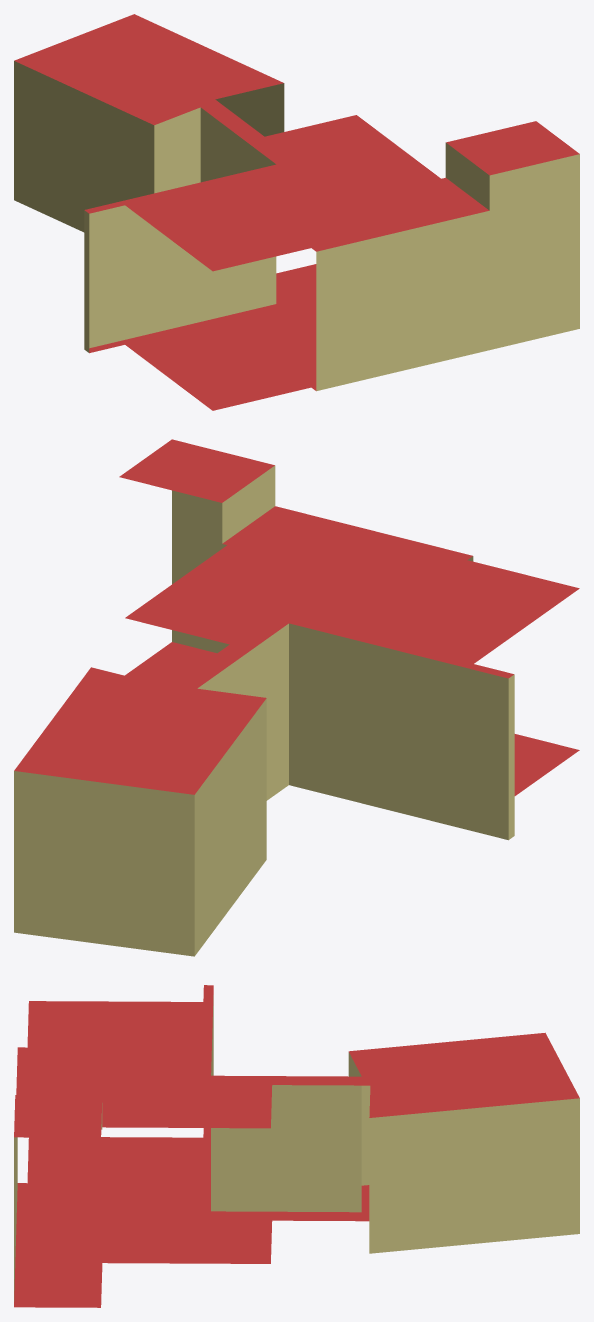
The picture shows the model from 3 angles, top to bottom: view 1: azimuth 30°, elevation 25°; view 2: azimuth 150°, elevation 25°; view 3: azimuth 270°, elevation 25°; orthographic projection. The views are drawn at different scales.
Size of the model in its own units: 22.34 by 28.57 by 9.46.
